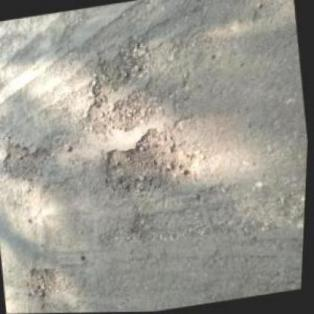Hueco: (98, 119, 205, 204), (83, 86, 160, 140), (86, 40, 154, 100), (1, 132, 59, 185), (29, 262, 66, 310)
